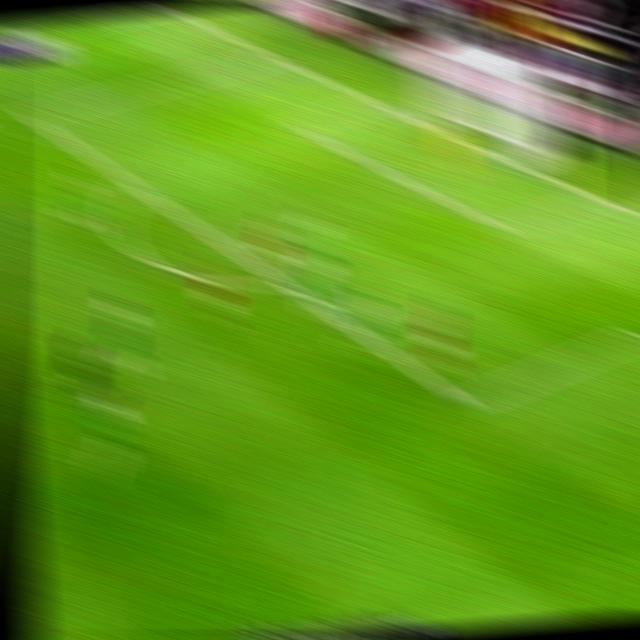bigarea_bottom_inner: (449, 385, 484, 417)
bigarea_top_inner: (16, 105, 43, 125)
bigarea_top_outter: (257, 45, 285, 64)
bottom_arc_area_intersection: (271, 272, 299, 294)
smallarea_bottom_inner: (489, 214, 522, 243)
smallarea_bottom_outter: (579, 184, 609, 209)
smallarea_top_inner: (283, 115, 312, 135)
smallarea_top_outter: (359, 91, 388, 111)
top_arc_area_intersection: (120, 173, 147, 195)
